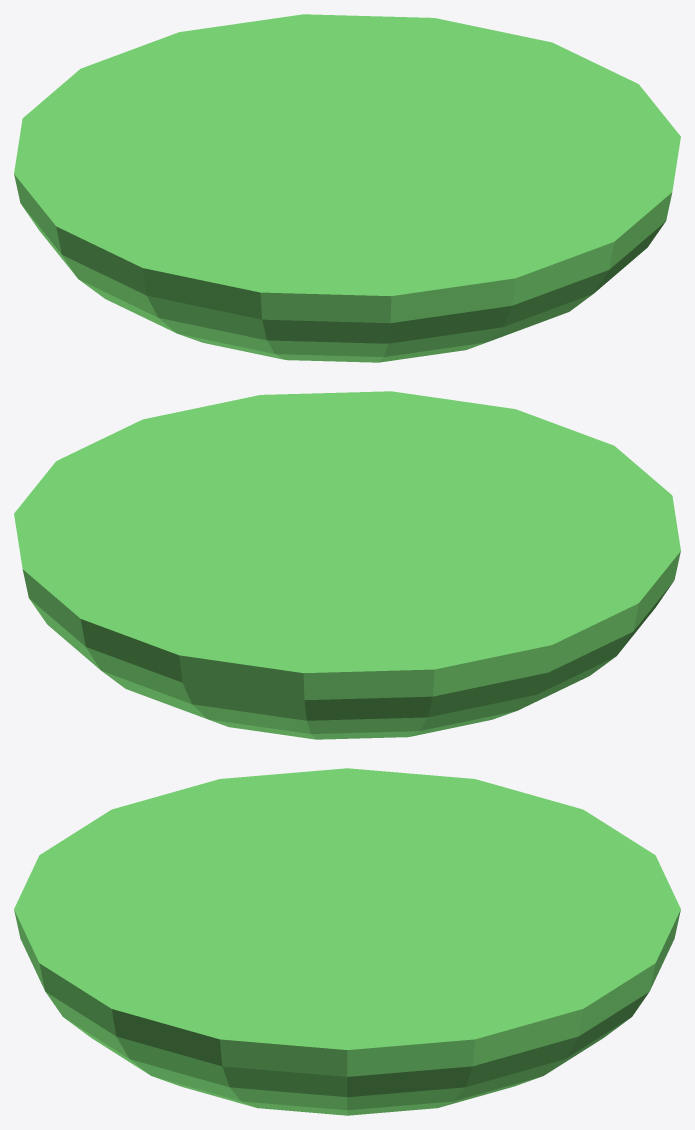
Rendered from Ground.glb.
The picture shows the model from 3 angles, top to bottom: view 1: azimuth 30°, elevation 25°; view 2: azimuth 150°, elevation 25°; view 3: azimuth 270°, elevation 25°; orthographic projection.
Parts seen in each view (by area): view 1: Ground; view 2: Ground; view 3: Ground.
Part boxes in pixels (x1,y1,x2,y2): Ground: (14, 14, 680, 362); Ground: (14, 391, 680, 739); Ground: (14, 768, 680, 1115).
Size of the model in its own units: 100 by 25 by 100.
